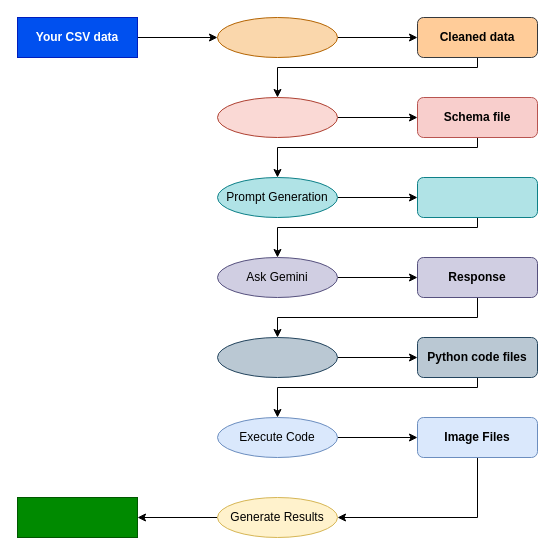
Some shapes in this 555 by 555 pixel diagram are drawn without their labels. Each missing label, with the box of its shape:
Data cleanup: (216, 16, 338, 58)
Extract Code: (216, 336, 338, 378)
Extract Schema: (216, 96, 338, 138)
Prompt: (416, 176, 538, 218)
Results: (16, 496, 138, 538)
